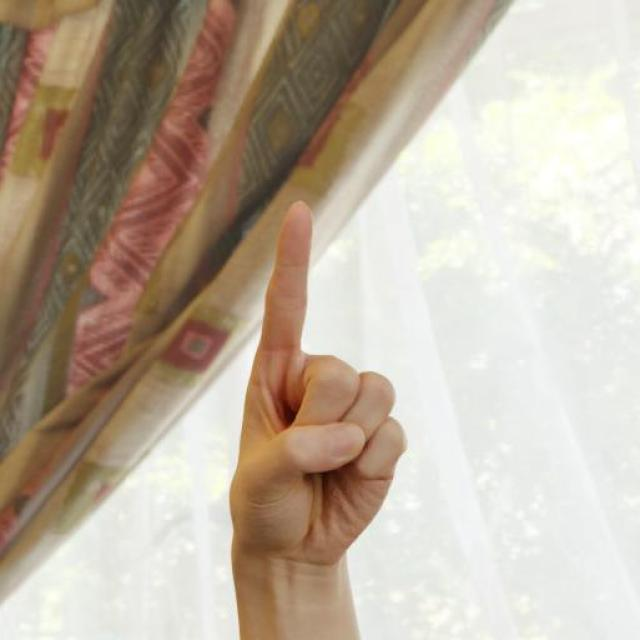Z: (166, 170, 445, 578)
